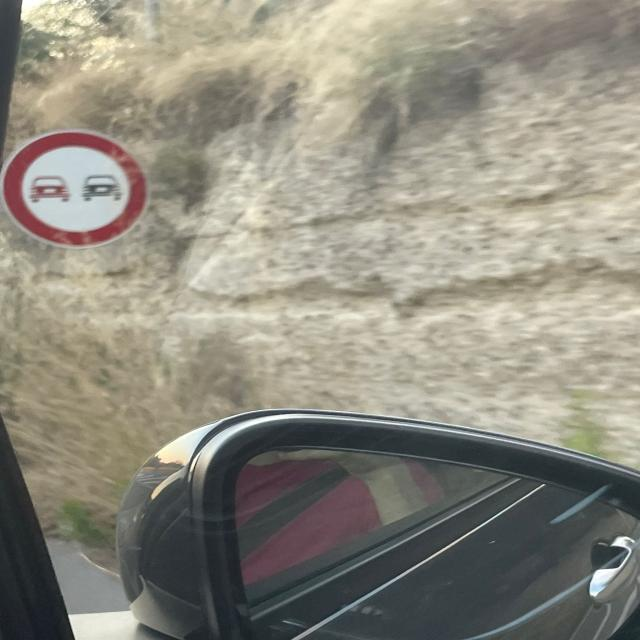forb_overtake: (1, 128, 149, 249)
